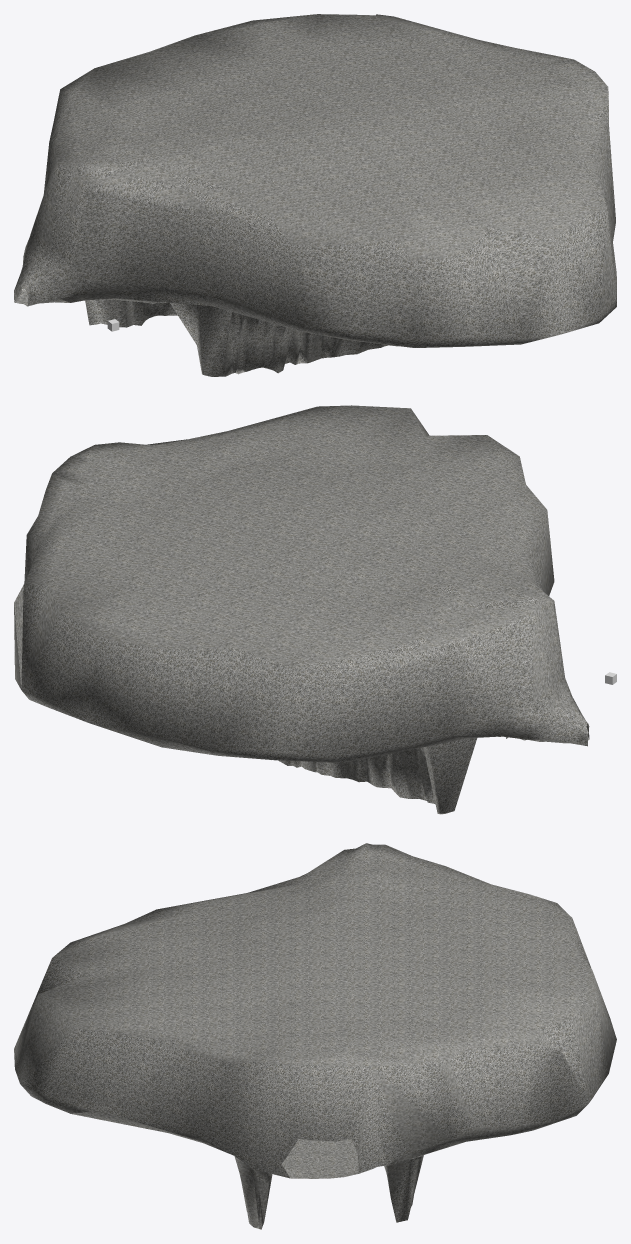
File: Big cave with trenches 01.FBX
3 views of the same model, one above another, from view 1: azimuth 30°, elevation 25°; view 2: azimuth 150°, elevation 25°; view 3: azimuth 270°, elevation 25° (orthographic). The views are drawn at different scales.
Visible parts, largest first — view 1: Big cave walls, Big cave floor first half; view 2: Big cave walls, Big cave floor first half; view 3: Big cave walls, Big cave floor second half.
Part boxes in pixels (x1,y1,x2,y2): Big cave walls: [14, 14, 616, 347]; Big cave floor first half: [14, 286, 384, 376]; Big cave walls: [14, 405, 589, 762]; Big cave floor first half: [278, 736, 589, 814]; Big cave walls: [14, 843, 616, 1174]; Big cave floor second half: [71, 1111, 447, 1229].
Size of the model in its own units: 132619 by 48574 by 137892.
